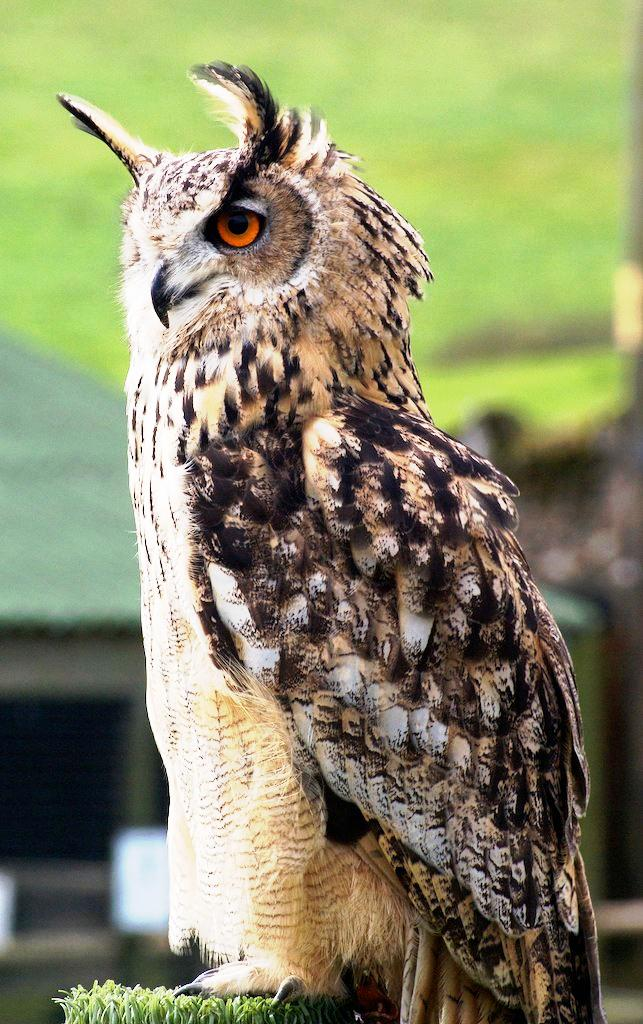Owl: (57, 54, 607, 1023)
